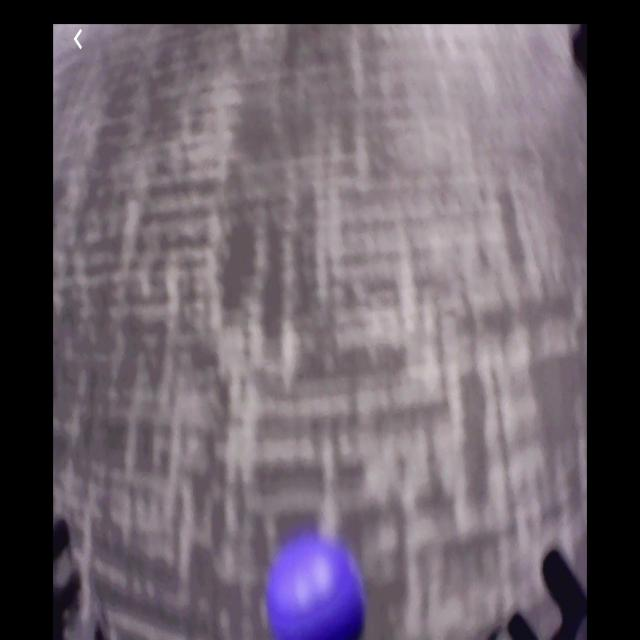ball: (269, 539, 359, 640)
